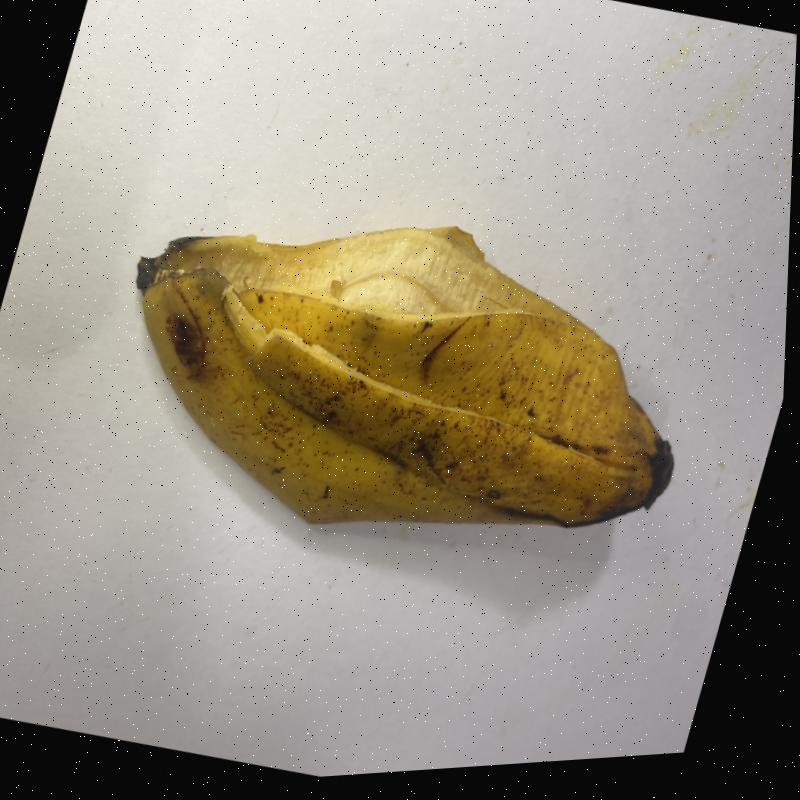fruit peels: (131, 224, 672, 529)
